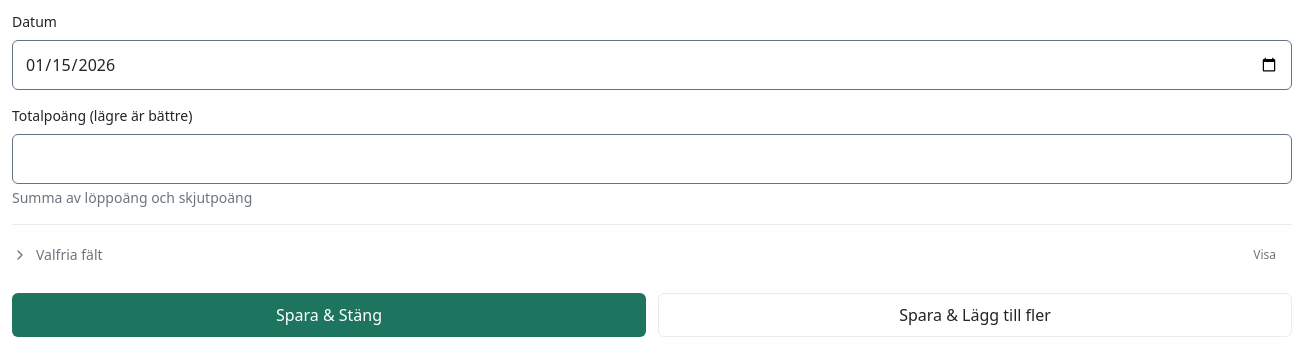
Test: RunningShootingCourseForm › validation › shows error when points is negative
In the number field labelled "Totalpoäng": (652,159) [12,134,1292,184], type "-5"
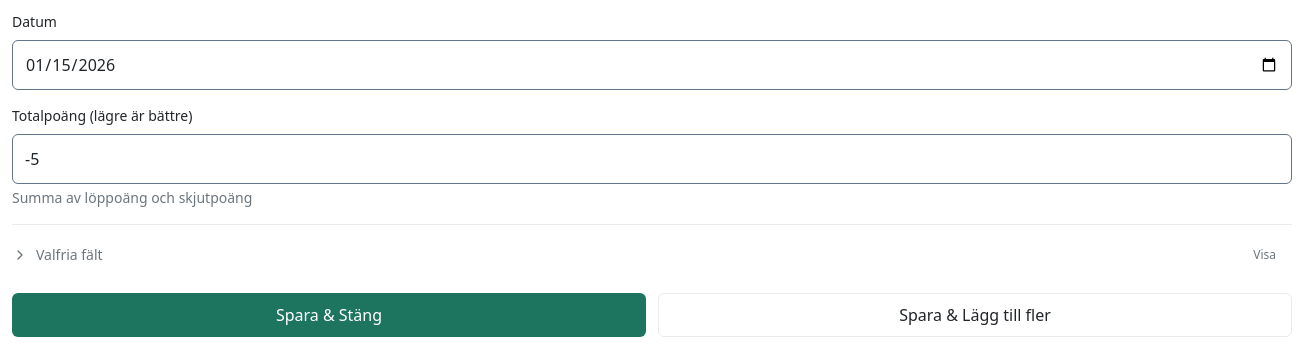
Click the button "Spara & Stäng": (329,315) [12,293,646,337]
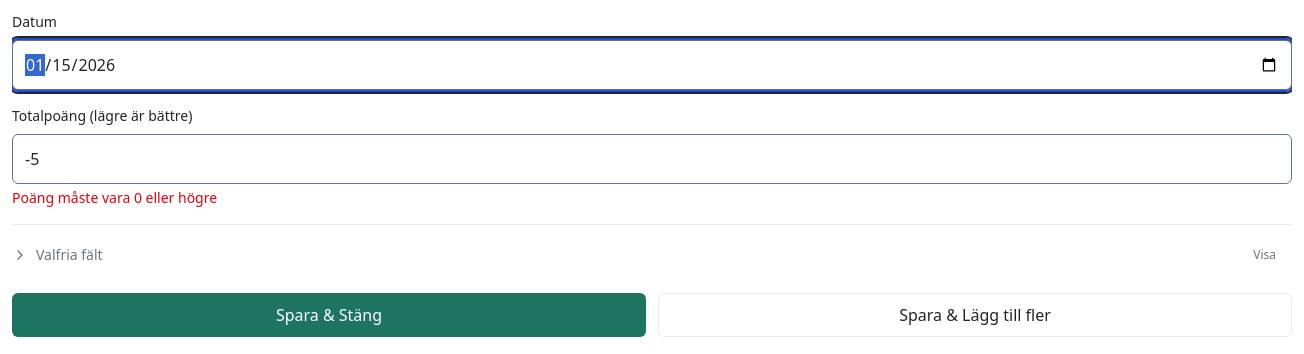
expect the text "Poäng måste vara 0 eller högre" is shown: met, box [12,188,217,207]
